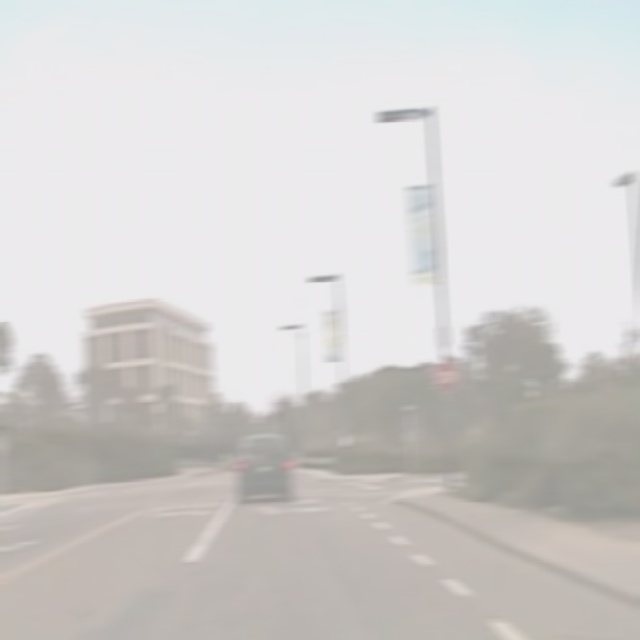stop: (432, 358, 458, 394)
